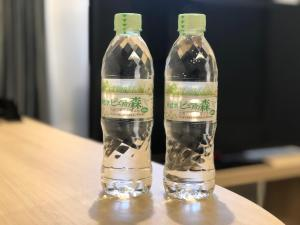bottle: (160, 11, 222, 205), (96, 8, 158, 201)
